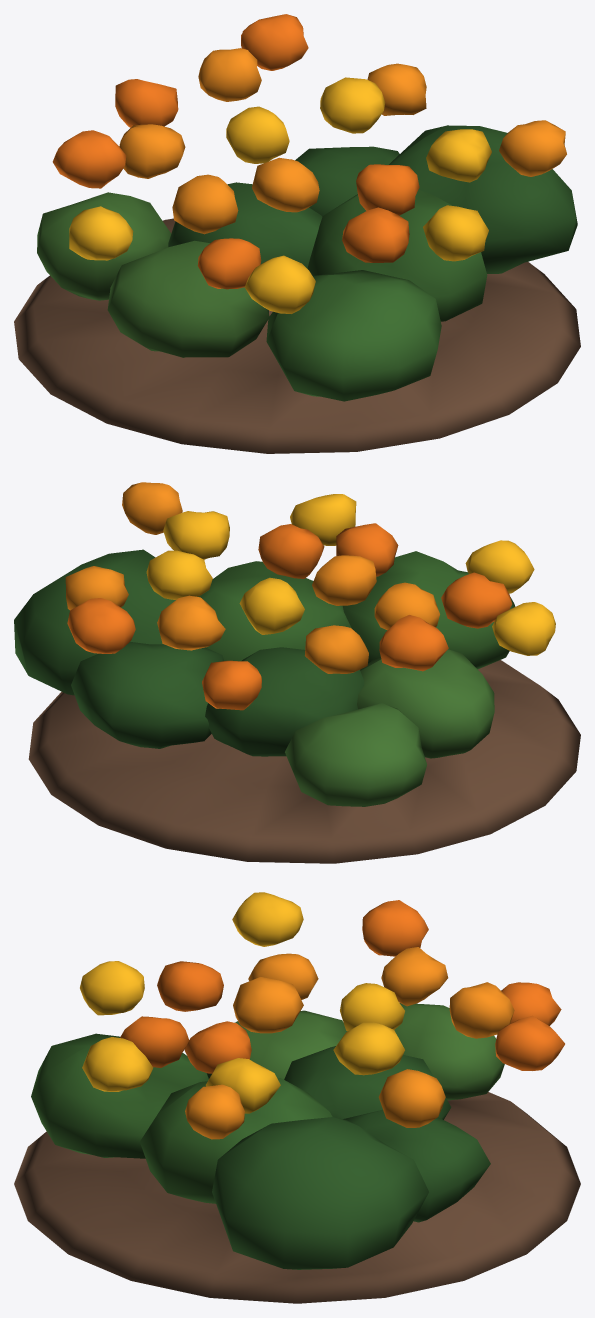
File: marigolds.glb
3 renders of one model, top to bottom at view 1: azimuth 30°, elevation 25°; view 2: azimuth 150°, elevation 25°; view 3: azimuth 270°, elevation 25°, orthographic. The views are drawn at different scales.
Parts seen in each view (by area): view 1: marigolds; view 2: marigolds; view 3: marigolds.
Boxes of the visible parts, x1,y1,x2,y2 form: marigolds: (14,14,580,453); marigolds: (14,482,580,863); marigolds: (14,892,580,1303).
Size of the model in its own units: 0.8849 by 0.3402 by 0.84.
